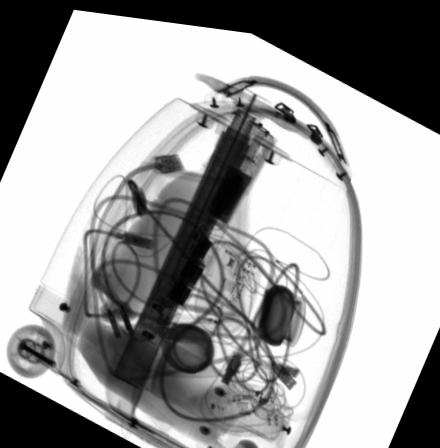Baton: (157, 113, 275, 323)
